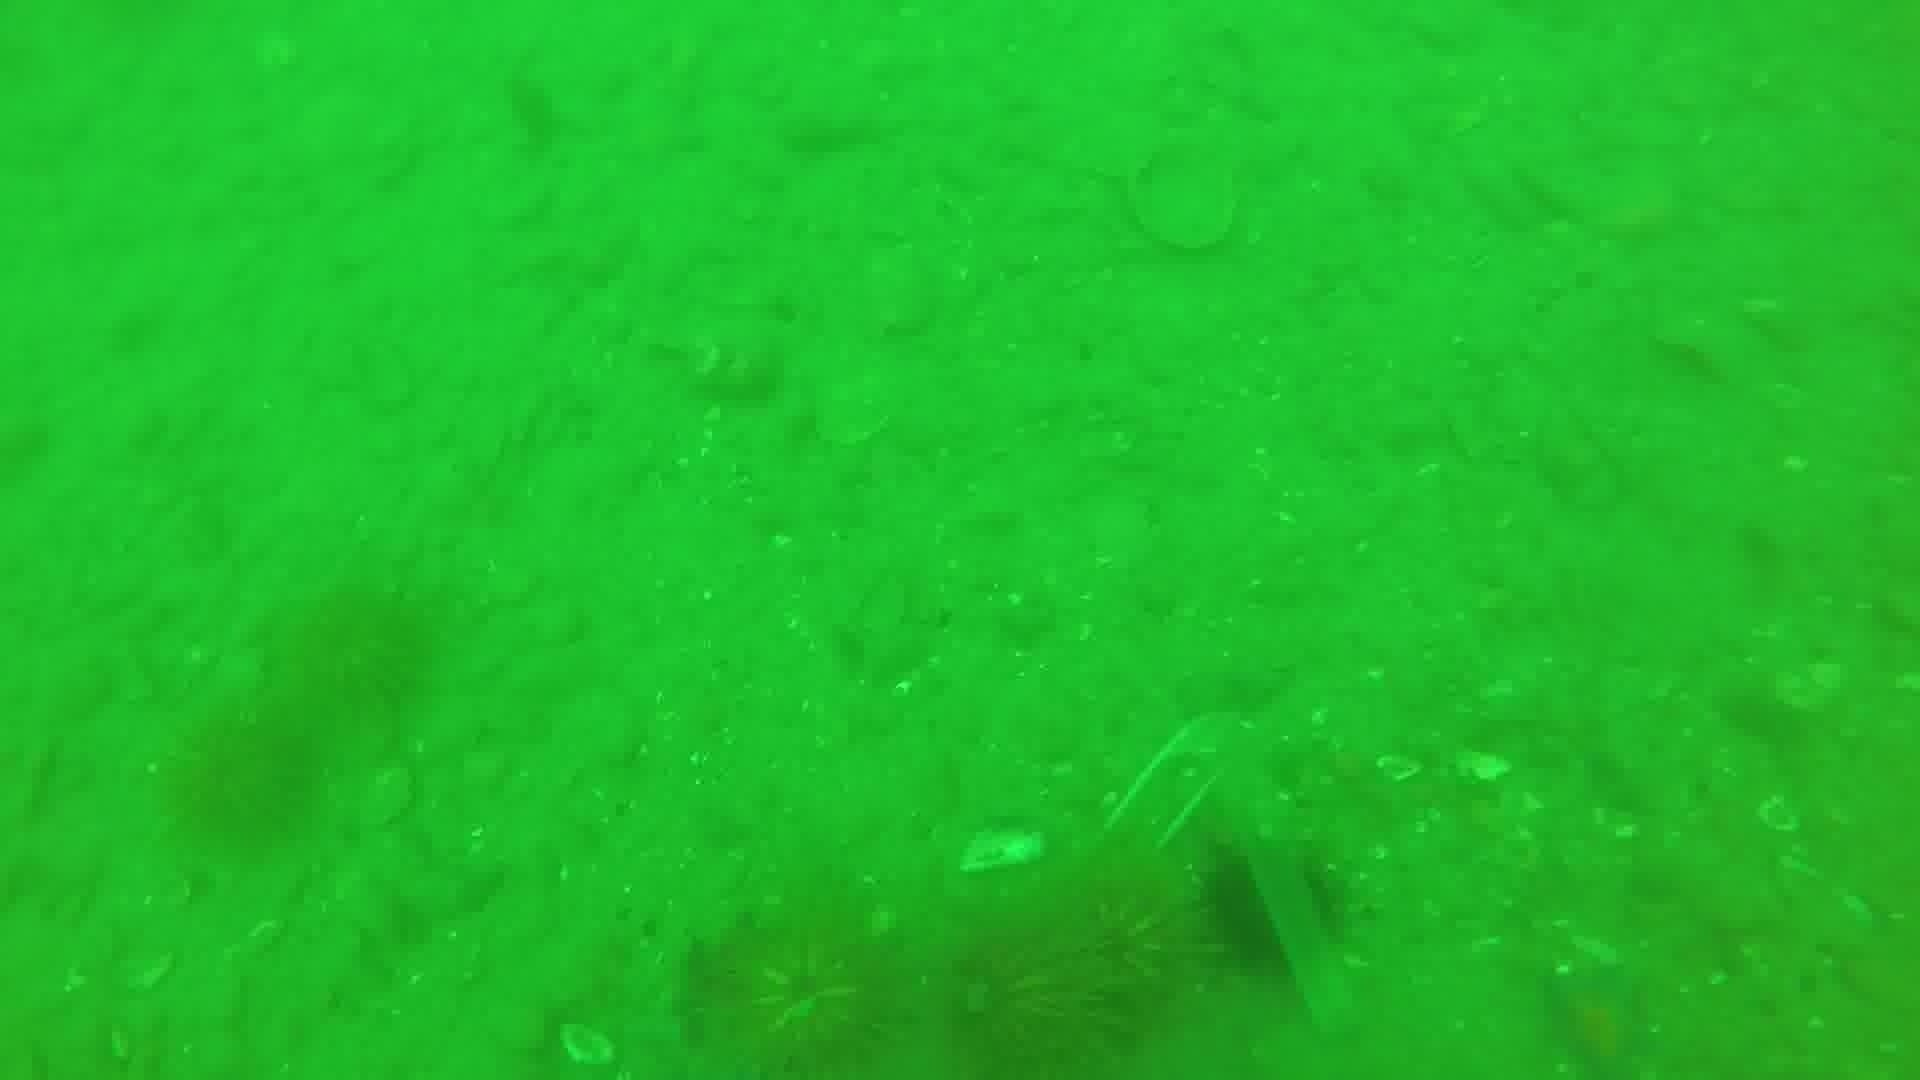echinus: (942, 868, 1188, 1079), (695, 899, 915, 1079), (164, 700, 324, 855), (276, 578, 440, 724), (1192, 849, 1296, 980)
starfish: (1531, 960, 1660, 1077)
